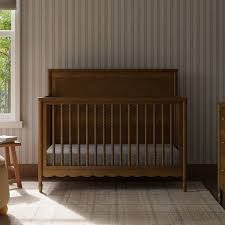crib: (36, 69, 187, 193)
